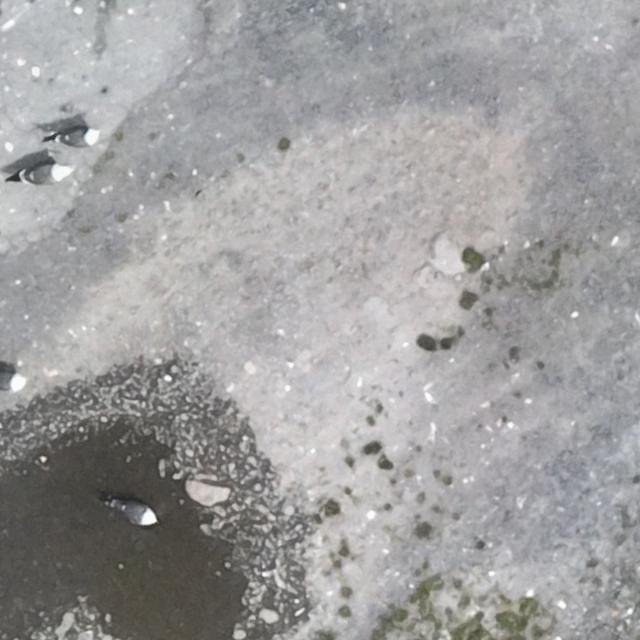umineko: (117, 502, 155, 526), (25, 164, 60, 183), (58, 129, 92, 146), (0, 372, 24, 390)
